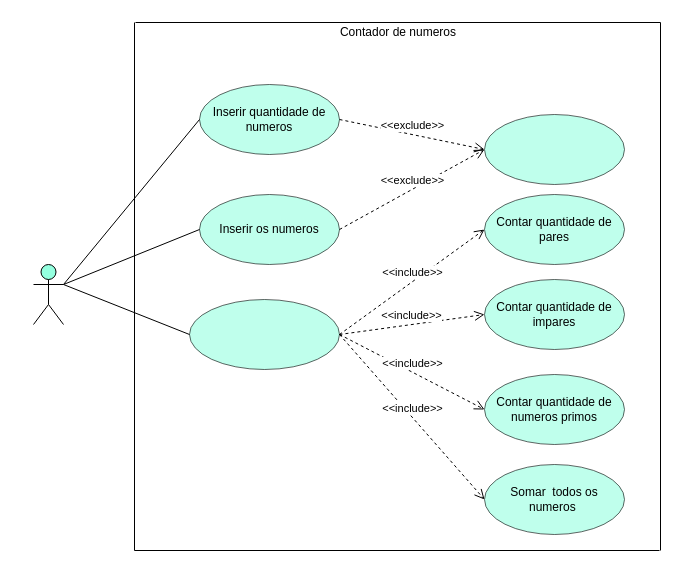
This 683x573 diagram has some shape labels left out. Here are the shapes that lost their labels. From the top down, the box of each, then its label:
(484, 114, 624, 184): Exibir mensagem de erro
(32, 264, 64, 324): Funcionario
(188, 298, 340, 370): Exibir os resultados
